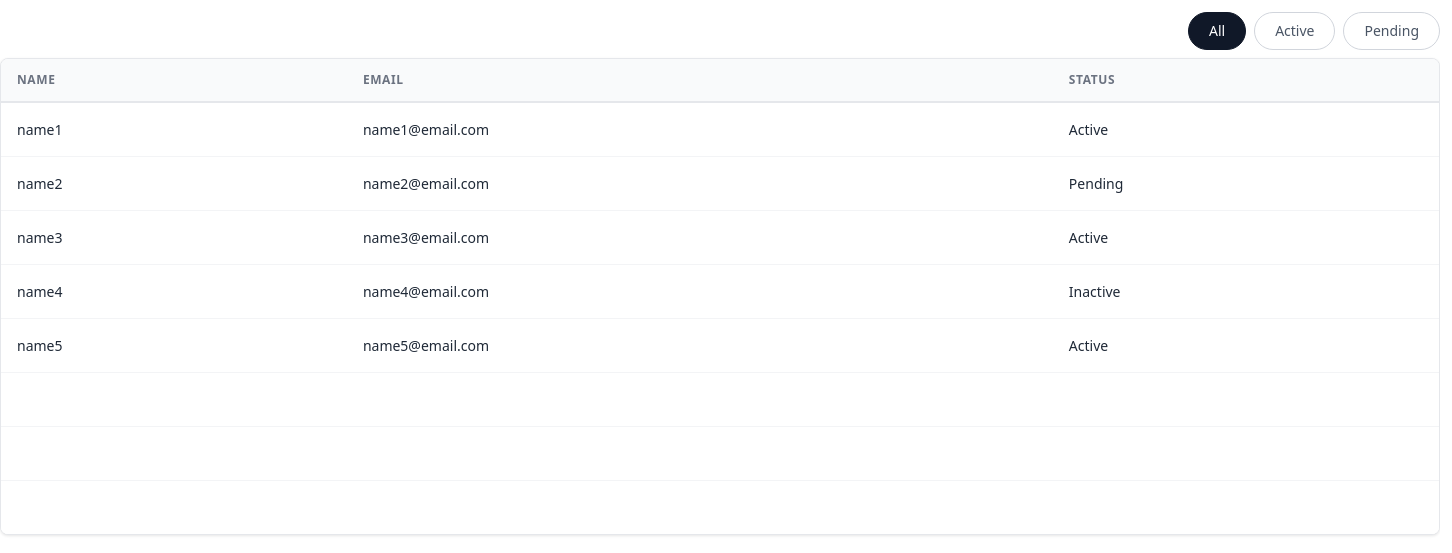
Table Admin Component Tests › 19. filters data by tab selection
click "Active" tab
Click the button "Active" at (1295, 31), box x1=1254 y1=12 x2=1335 y2=50
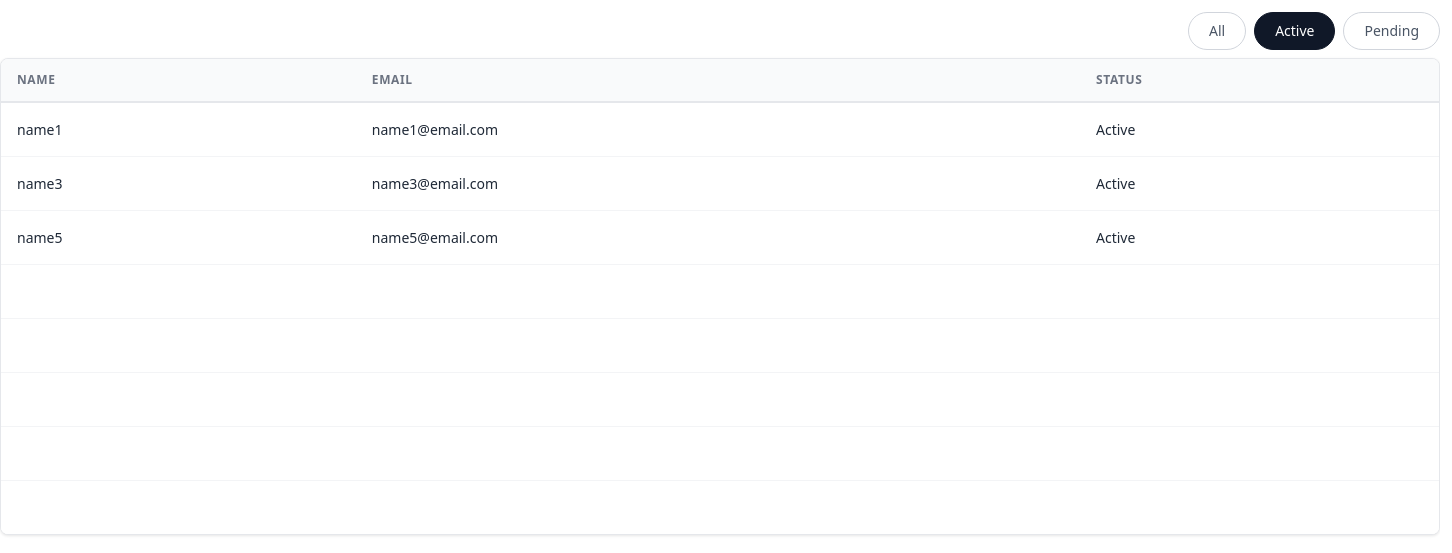
Check: the text "name1" is shown, box x1=1 y1=102 x2=356 y2=156
Check: the text "name2" is gone
Check: the text "name4" is gone
